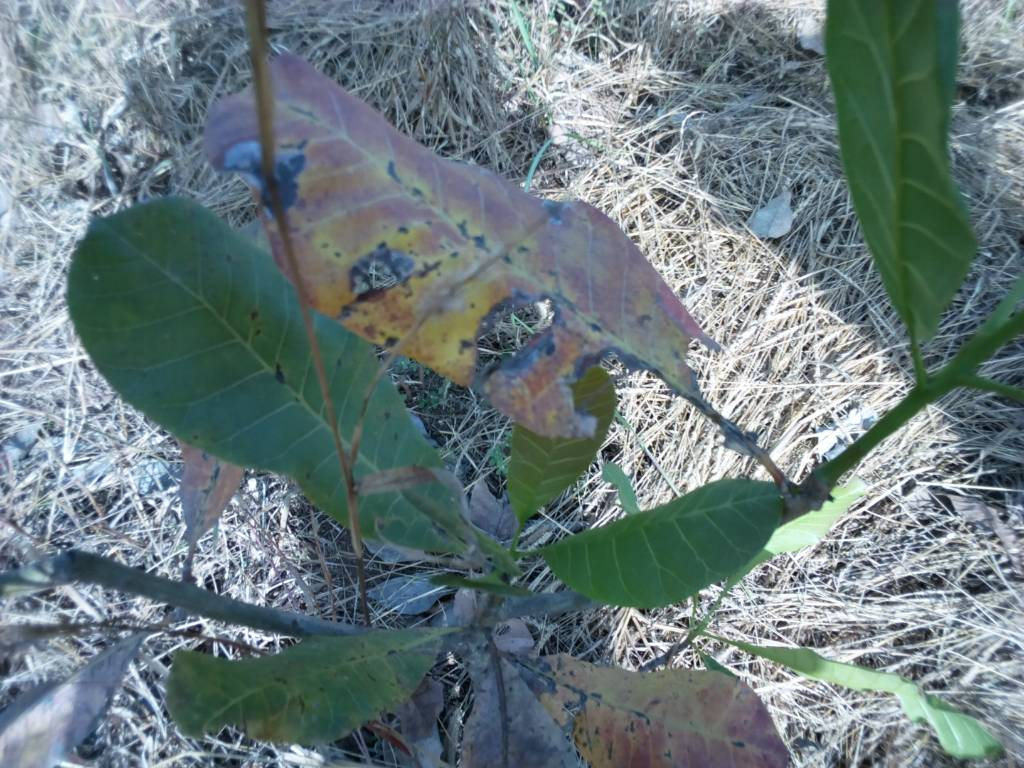Carence minérale: (193, 57, 722, 426), (518, 641, 804, 768)
